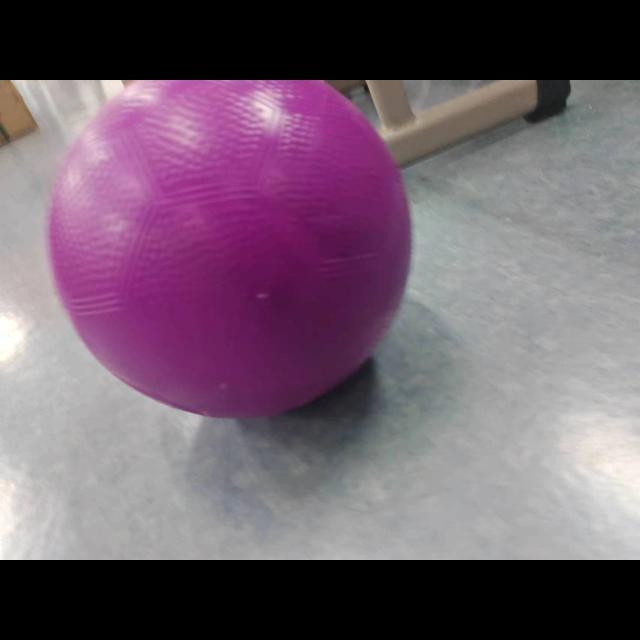P: (42, 80, 426, 422)
